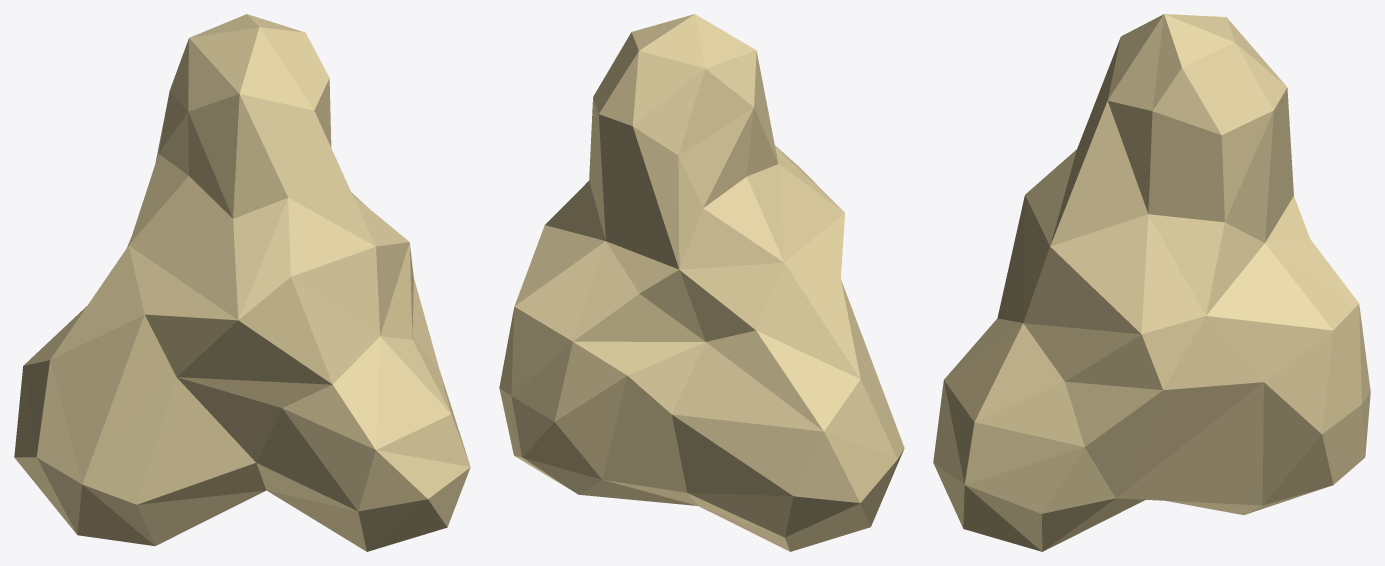
The model's file is Rock (12).fbx.
The picture shows the model from 3 angles, left to right: view 1: azimuth 30°, elevation 25°; view 2: azimuth 150°, elevation 25°; view 3: azimuth 270°, elevation 25°; orthographic projection. The views are drawn at different scales.
Visible parts, largest first — view 1: Asteroid11; view 2: Asteroid11; view 3: Asteroid11.
Boxes of the visible parts, x1,y1,x2,y2 form: Asteroid11: [14, 14, 470, 551]; Asteroid11: [499, 14, 904, 551]; Asteroid11: [933, 14, 1370, 551].
Bounding box in the file's own units: 172 × 221 × 171.
